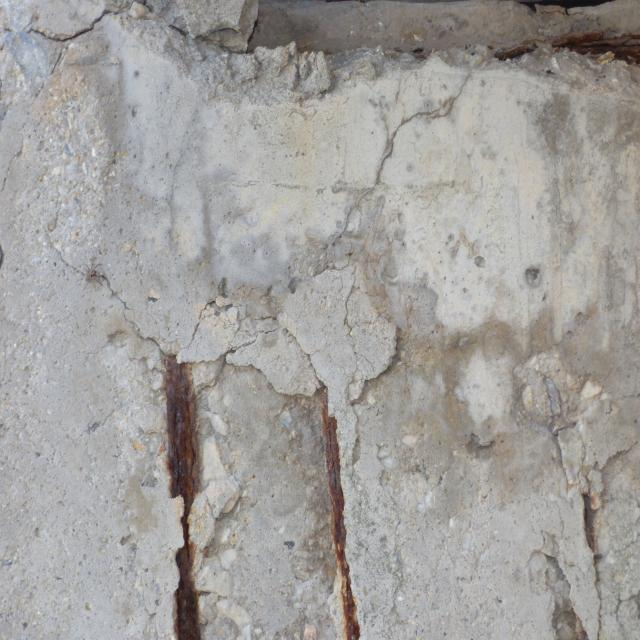corrosion: (150, 328, 221, 640), (311, 383, 384, 640), (570, 469, 626, 638), (497, 16, 640, 80)
